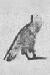G17: (5, 1, 45, 75)
